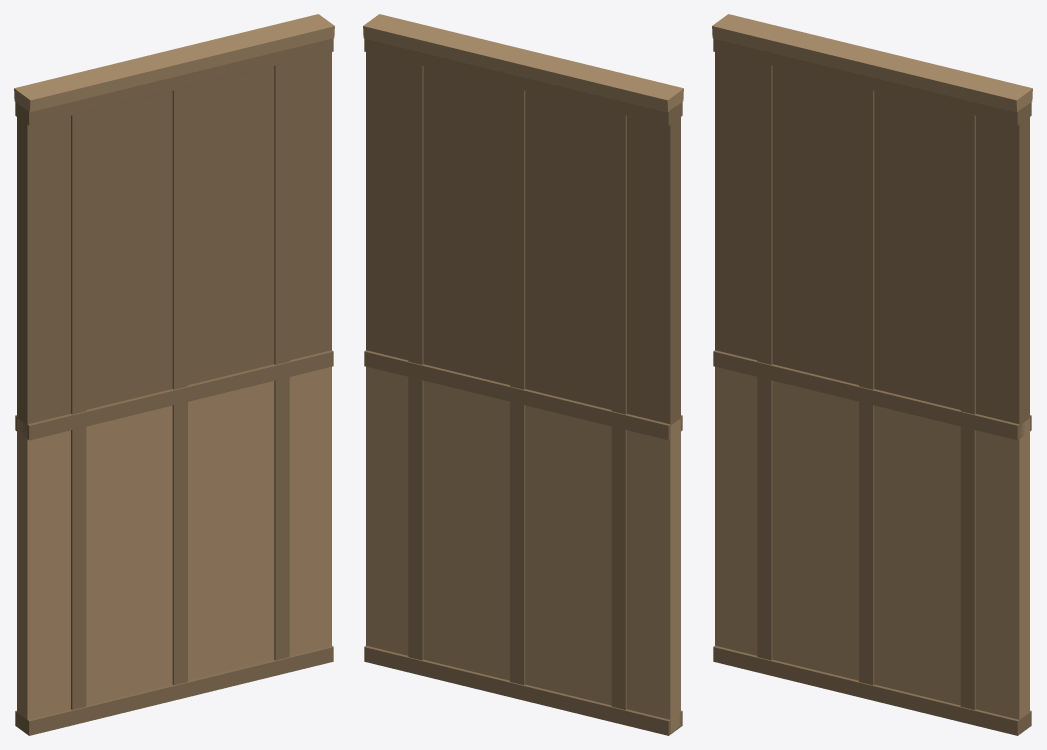
File: BD_high_wall.fbx
The picture shows the model from 3 angles, left to right: view 1: azimuth 30°, elevation 25°; view 2: azimuth 150°, elevation 25°; view 3: azimuth 330°, elevation 25°; orthographic projection.
Visible parts, largest first — view 1: BD_high_wall.001; view 2: BD_high_wall.001; view 3: BD_high_wall.001.
Boxes of the visible parts, x1,y1,x2,y2 form: BD_high_wall.001: (14,14,334,735); BD_high_wall.001: (363,14,683,735); BD_high_wall.001: (712,14,1032,735).
Size of the model in its own units: 3 by 5.99 by 0.2798.
